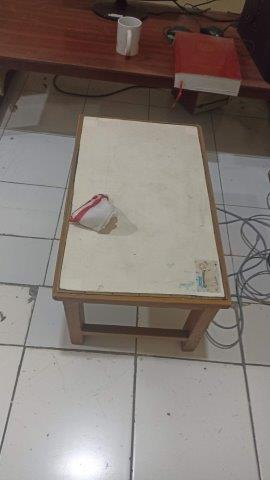plastik: (66, 194, 123, 234)
